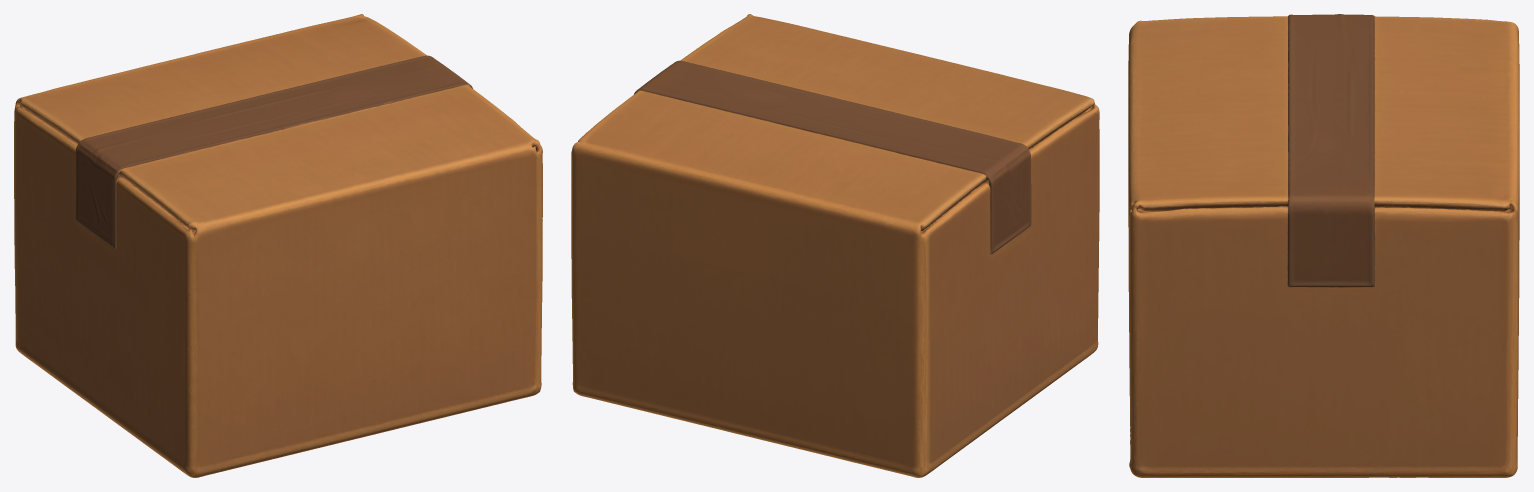
File: CardboardBox.fbx
3 views of the same model, side by side, from view 1: azimuth 30°, elevation 25°; view 2: azimuth 150°, elevation 25°; view 3: azimuth 270°, elevation 25° (orthographic). The views are drawn at different scales.
Visible parts, largest first — view 1: tripo_node_1e957437-199f-4393-b61e-c533460e5f64; view 2: tripo_node_1e957437-199f-4393-b61e-c533460e5f64; view 3: tripo_node_1e957437-199f-4393-b61e-c533460e5f64.
Boxes of the visible parts, <box> form: tripo_node_1e957437-199f-4393-b61e-c533460e5f64: <box>14,14,542,477</box>; tripo_node_1e957437-199f-4393-b61e-c533460e5f64: <box>571,14,1099,477</box>; tripo_node_1e957437-199f-4393-b61e-c533460e5f64: <box>1128,14,1519,477</box>.
Size of the model in its own units: 97.93 by 68.03 by 85.09.
1 material, 1 textured.
